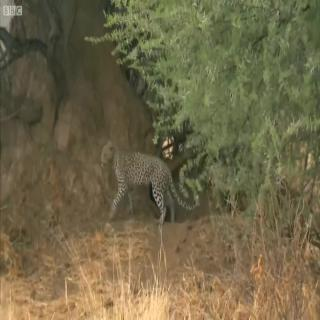Leopard: (97, 127, 199, 227)
